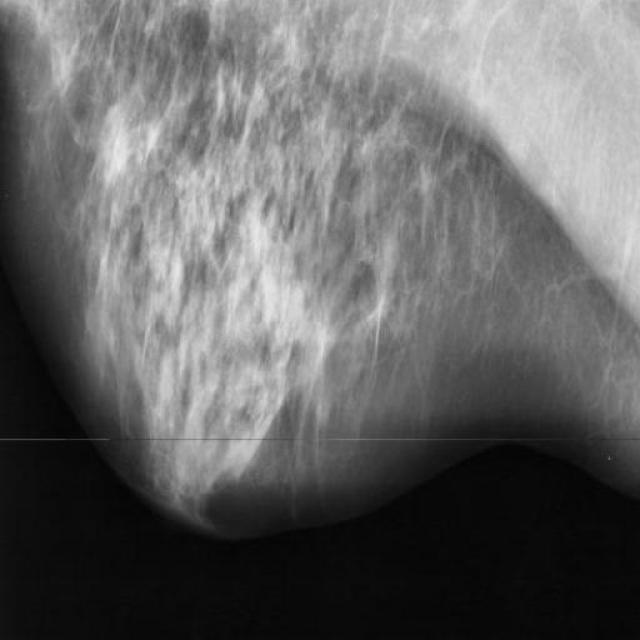cancer: (84, 90, 152, 210)
